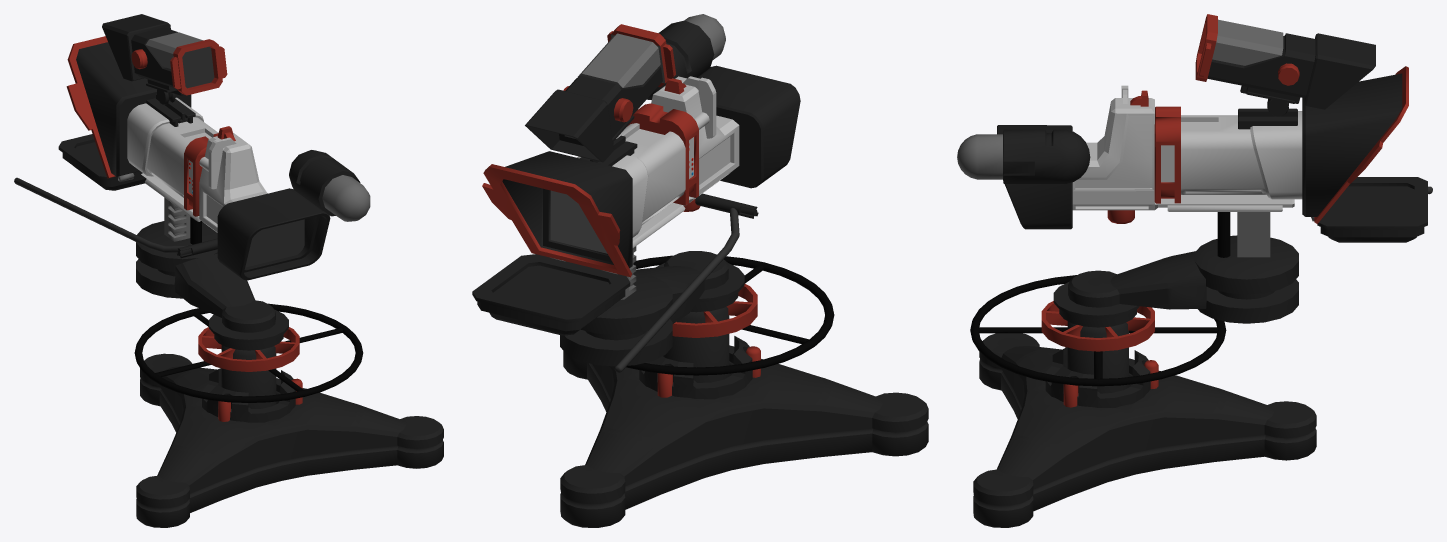
File: fab3.glb
The picture shows the model from 3 angles, left to right: view 1: azimuth 30°, elevation 25°; view 2: azimuth 150°, elevation 25°; view 3: azimuth 270°, elevation 25°; orthographic projection. The views are drawn at different scales.
Visible parts, largest first — view 1: node_id168, node_id174, node_id172, node_id180, node_id176, node_id178; view 2: node_id168, node_id172, node_id174, node_id178, node_id180, node_id170, node_id176; view 3: node_id168, node_id174, node_id172, node_id178, node_id180.
Part boxes in pixels (x1,y1,x2,y2): node_id168: [58, 14, 443, 527]; node_id174: [127, 97, 267, 232]; node_id172: [66, 36, 302, 421]; node_id180: [134, 216, 363, 402]; node_id176: [14, 46, 304, 267]; node_id178: [118, 32, 370, 241]; node_id168: [472, 20, 928, 527]; node_id172: [482, 24, 760, 397]; node_id174: [577, 76, 739, 247]; node_id178: [549, 14, 725, 299]; node_id180: [626, 255, 834, 375]; node_id170: [550, 190, 607, 253]; node_id176: [614, 208, 739, 372]; node_id168: [973, 33, 1427, 527]; node_id174: [1072, 85, 1302, 211]; node_id172: [1041, 14, 1408, 407]; node_id178: [957, 19, 1314, 257]; node_id180: [970, 212, 1230, 386].
Size of the model in its own units: 0.4216 by 0.512 by 0.5213.
